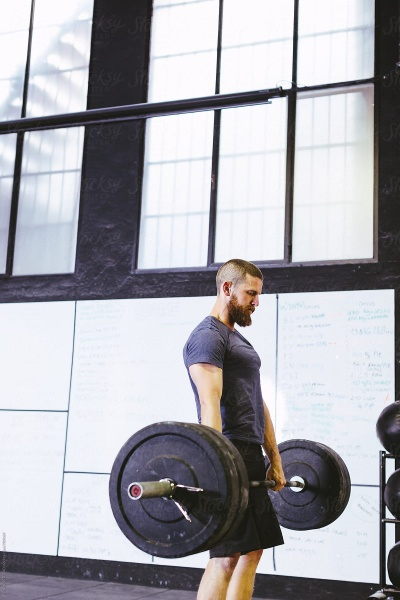barbell: (106, 419, 249, 562)
